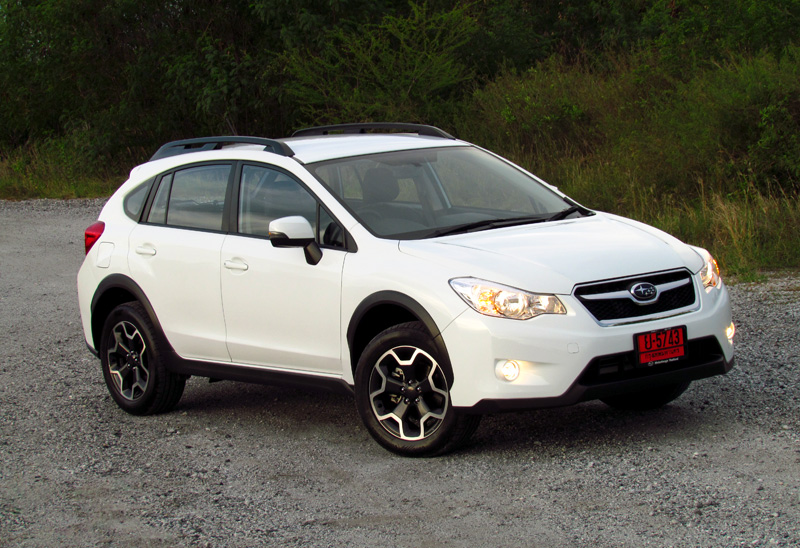pickup: (76, 121, 737, 457)
